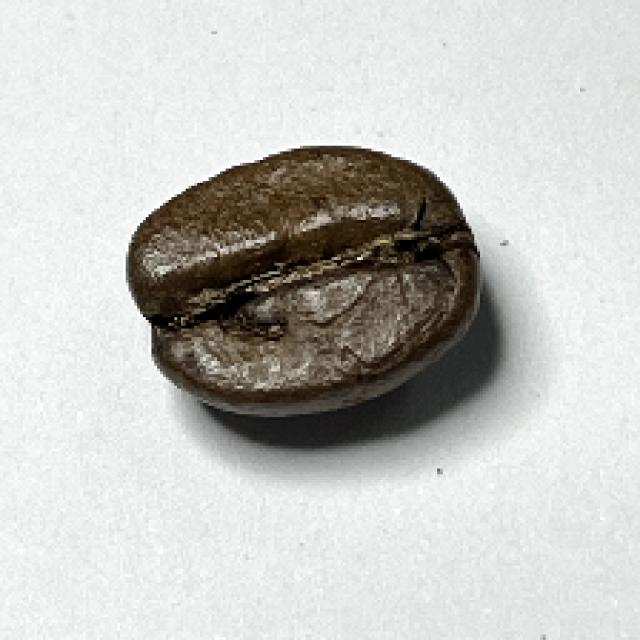bean: (121, 141, 486, 416)
